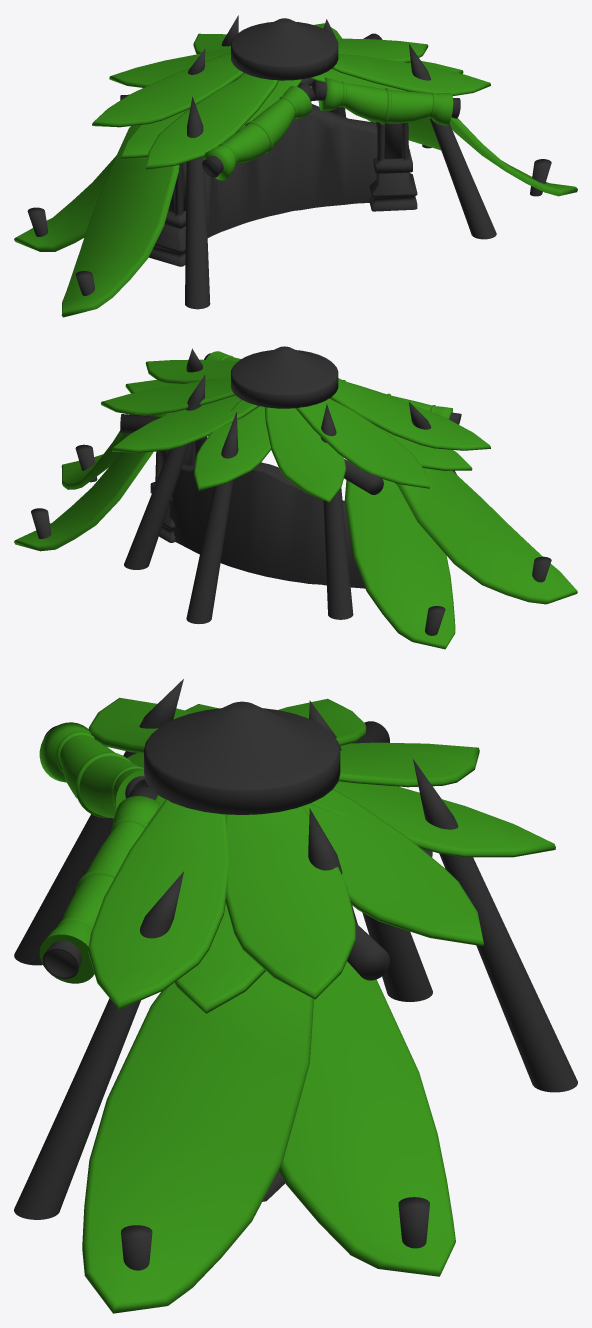
File: GuardPost.fbx
3 views of the same model, one above another, from view 1: azimuth 30°, elevation 25°; view 2: azimuth 150°, elevation 25°; view 3: azimuth 270°, elevation 25° (orthographic). The views are drawn at different scales.
Parts seen in each view (by area): view 1: GuardPostLeaf, GuardPost; view 2: GuardPostLeaf, GuardPost; view 3: GuardPostLeaf, GuardPost.
Boxes of the visible parts, x1,y1,x2,y2 form: GuardPostLeaf: (14, 23, 577, 317); GuardPost: (27, 15, 551, 309); GuardPostLeaf: (14, 351, 577, 649); GuardPost: (31, 346, 551, 635); GuardPostLeaf: (39, 697, 555, 1313); GuardPost: (14, 679, 577, 1270).
Size of the model in its own units: 1631 by 636 by 847.
